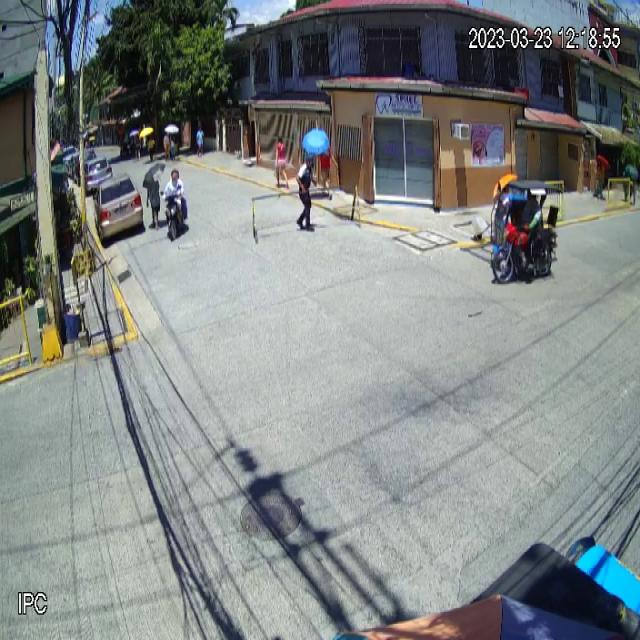Car: (92, 172, 144, 244)
Tricycle: (493, 177, 559, 287)
